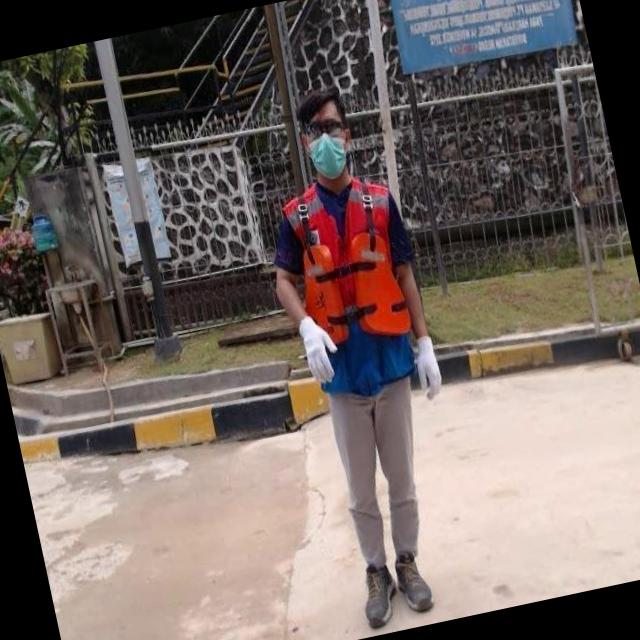vest: (274, 165, 429, 400)
